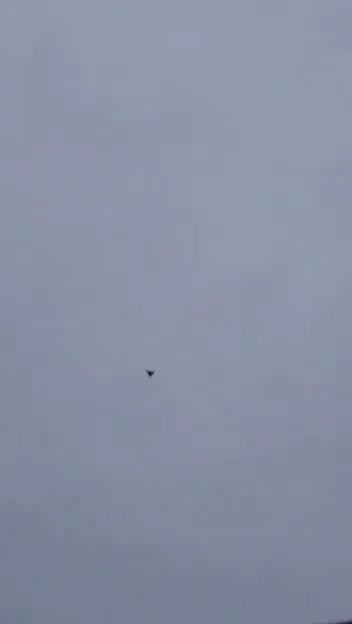shahed: (144, 368, 155, 378)
